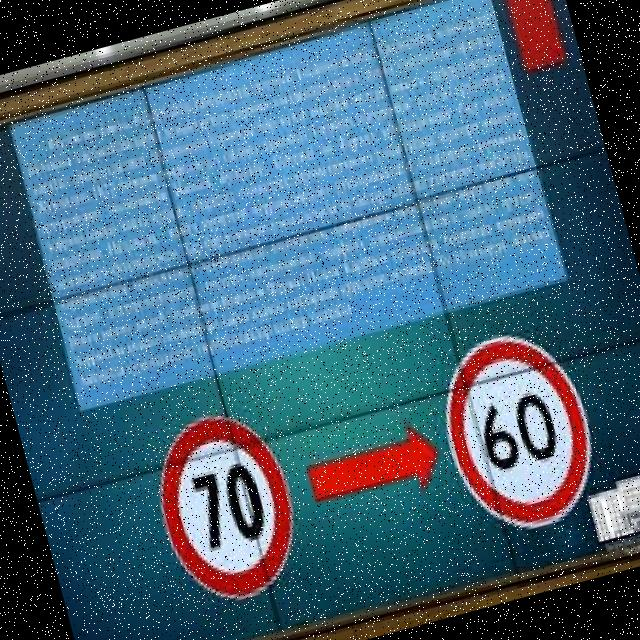speed_limit_60: (420, 313, 620, 552)
speed_limit_70: (130, 391, 316, 618)
